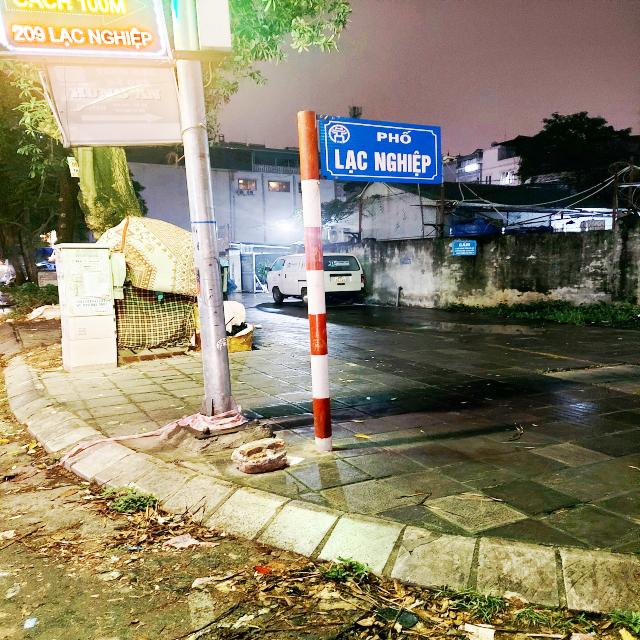license_plate: (334, 277, 348, 284)
